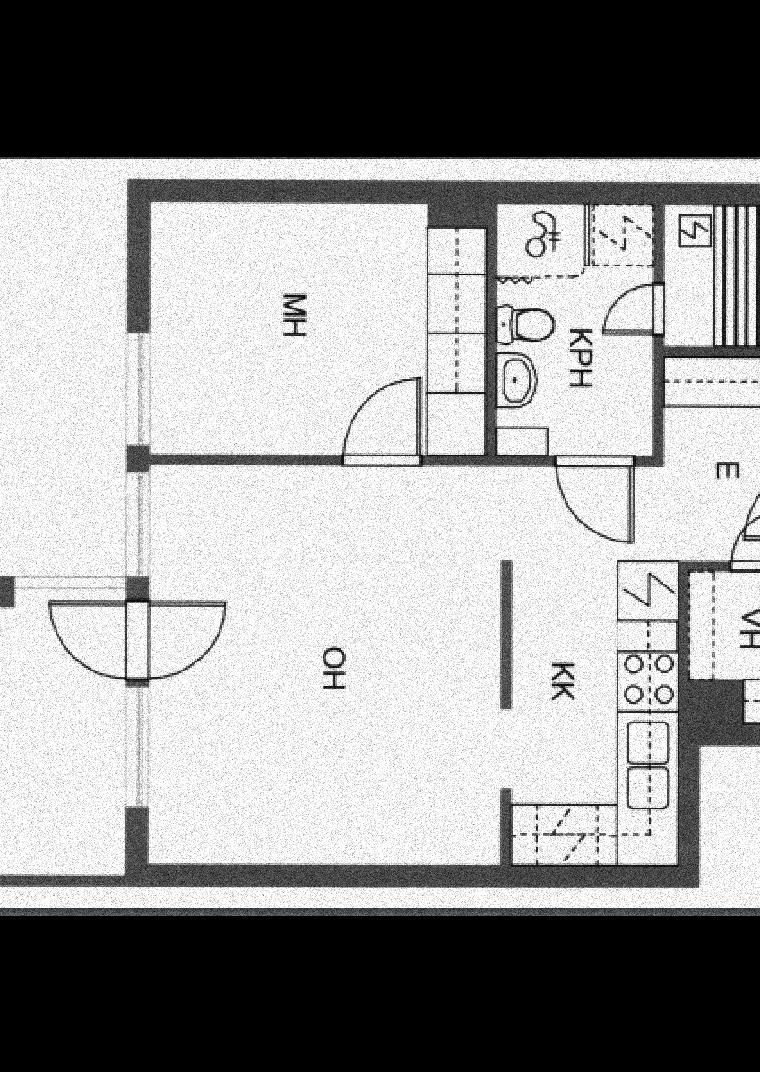door: (35, 590, 236, 678), (334, 370, 424, 471), (550, 454, 640, 553), (600, 280, 667, 338), (726, 514, 760, 573)
window: (119, 331, 161, 456), (121, 465, 158, 573), (124, 684, 149, 812)
zone: (149, 465, 507, 862), (514, 359, 760, 863), (148, 190, 482, 458), (497, 209, 650, 456), (0, 594, 121, 873), (666, 210, 760, 342)
